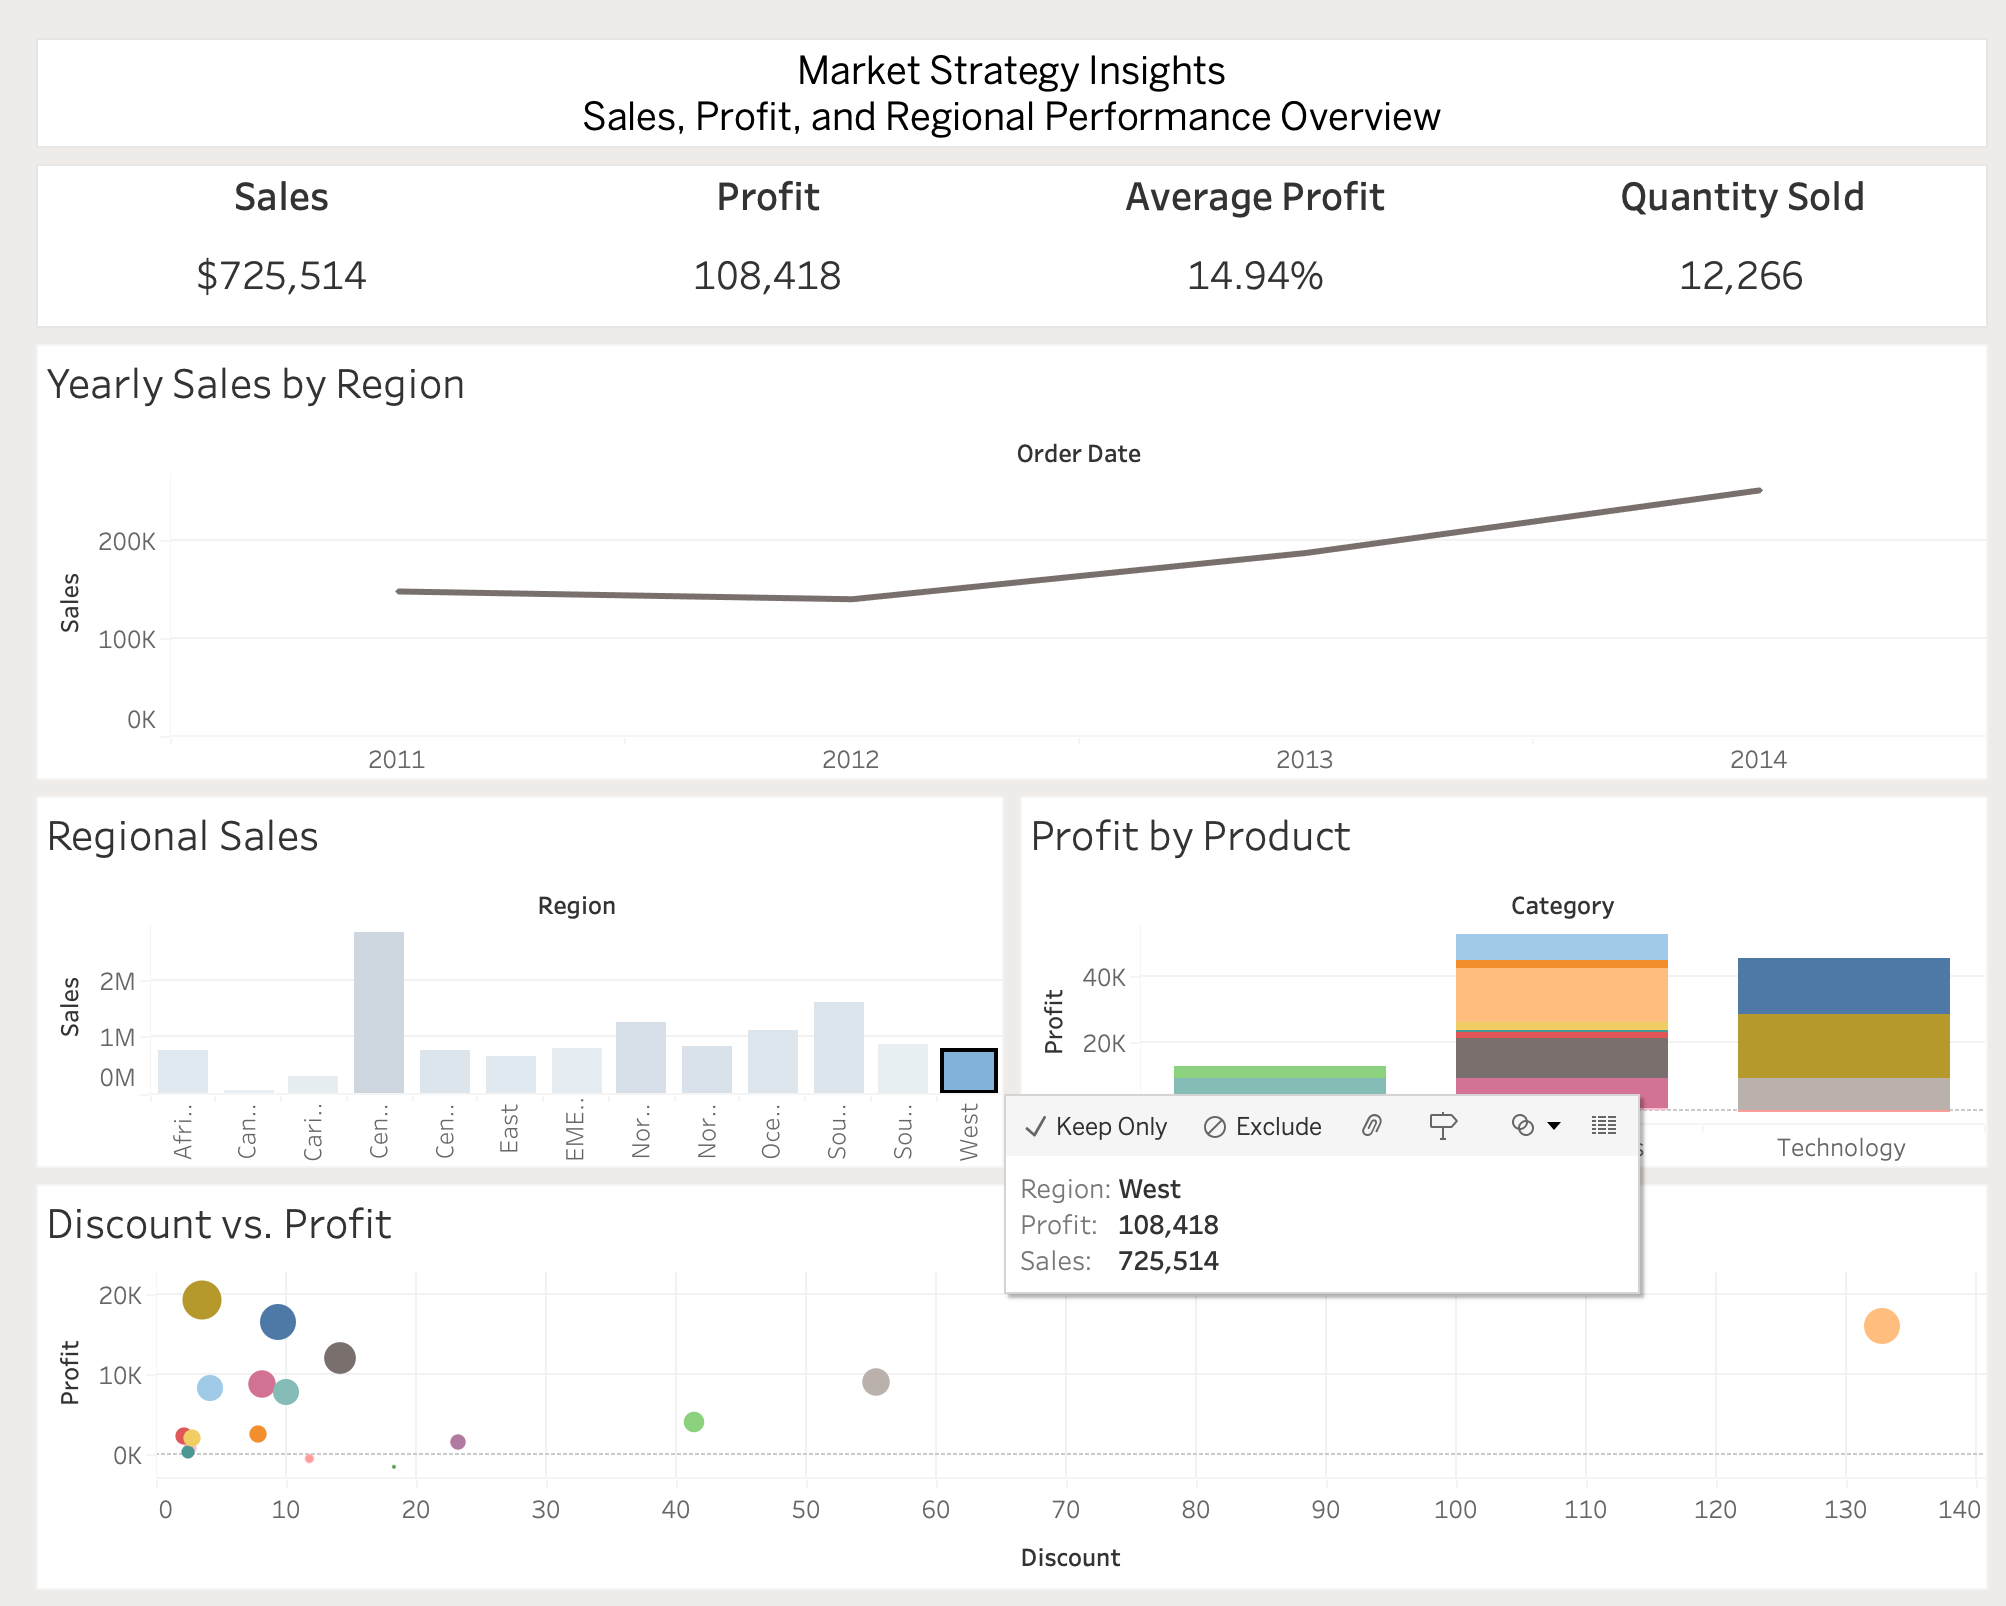

What the dashboard file says about the page in this screenshot:
{"tool":"tableau","page":{"name":"Market Strategy","canvas":[1000,800],"ordinal":0},"visuals":[{"type":"text","box":[8,8,984,63]},{"type":"worksheet","title":"KPIs","mark":"Automatic","box":[8,71,984,90]},{"type":"worksheet","title":"Sale Trends","mark":"Automatic","rows":["sales"],"cols":["order_date"],"box":[8,161,984,226]},{"type":"worksheet","title":"Regional Sales","mark":"Automatic","rows":["sales"],"cols":["region"],"box":[8,387,492,194]},{"type":"worksheet","title":"Profit by Product","mark":"Automatic","rows":["profit"],"cols":["category"],"box":[500,387,492,194]},{"type":"worksheet","title":"Discount vs. Profit","mark":"Automatic","rows":["profit"],"cols":["discount"],"box":[8,581,984,211]}]}

Visuals, with their boxes in screenshot pixels (x1, y1, x2, y2), scaled from the page's 1000x800 canvas onto the 2006x1606 screenshot:
text: region(16, 16, 1990, 143)
"KPIs" worksheet: region(16, 143, 1990, 323)
"Sale Trends" worksheet: region(16, 323, 1990, 777)
"Regional Sales" worksheet: region(16, 777, 1003, 1166)
"Profit by Product" worksheet: region(1003, 777, 1990, 1166)
"Discount vs. Profit" worksheet: region(16, 1166, 1990, 1590)
